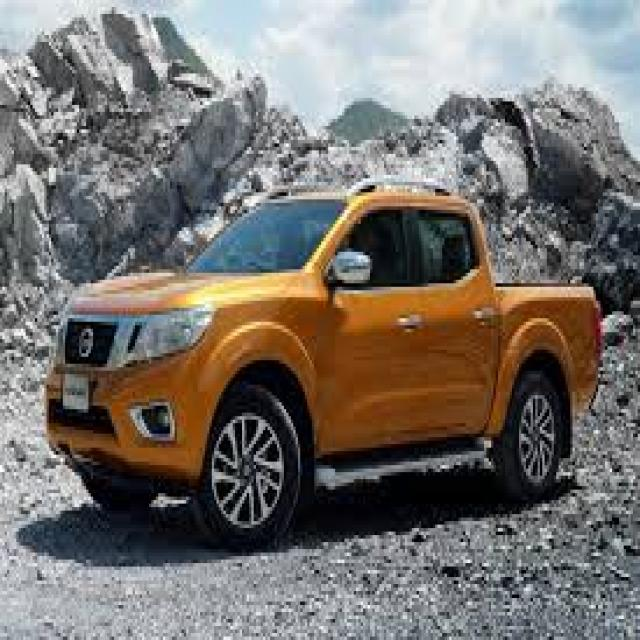Pickup Trucks: (44, 189, 600, 552)
